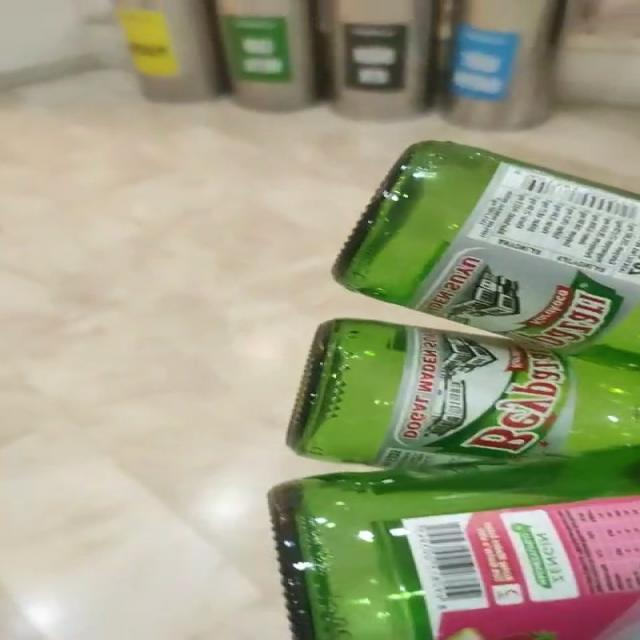Glass: (269, 142, 639, 640)
